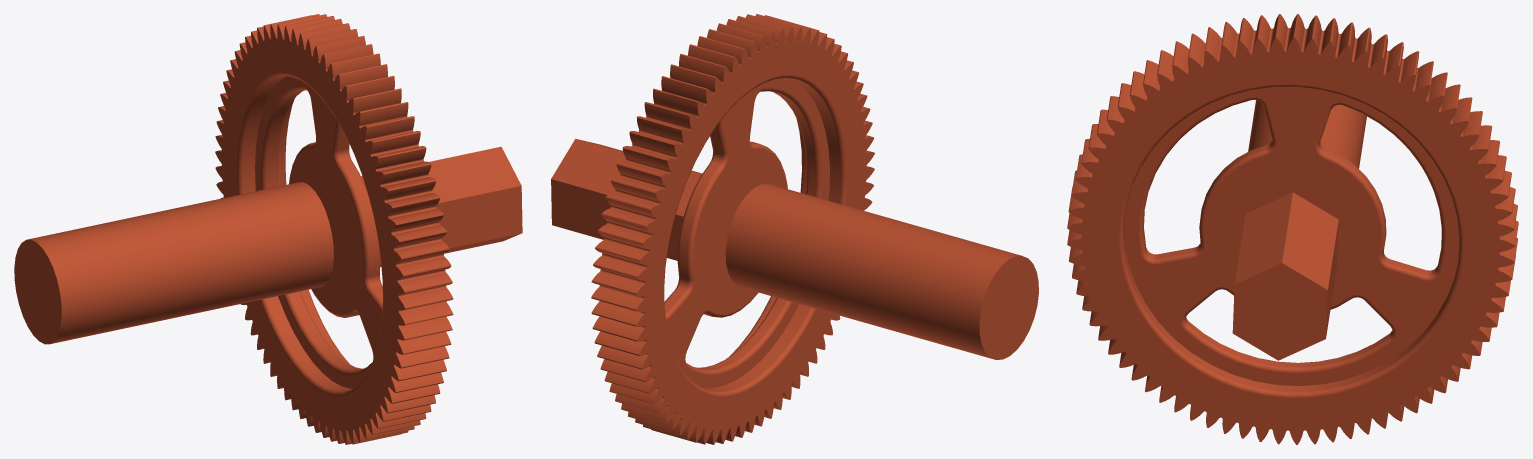
Rendered from Arm gear.gltf.
3 renders of one model, left to right at view 1: azimuth 30°, elevation 25°; view 2: azimuth 150°, elevation 25°; view 3: azimuth 270°, elevation 25°, orthographic. The views are drawn at different scales.
Parts seen in each view (by area): view 1: Solid1; view 2: Solid1; view 3: Solid1.
Part boxes in pixels (left/top/right/bottom): Solid1: left=14, top=14, right=522, bottom=444; Solid1: left=551, top=14, right=1038, bottom=444; Solid1: left=1067, top=14, right=1518, bottom=444.
Size of the model in its own units: 0.0293 by 0.024 by 0.0241.
